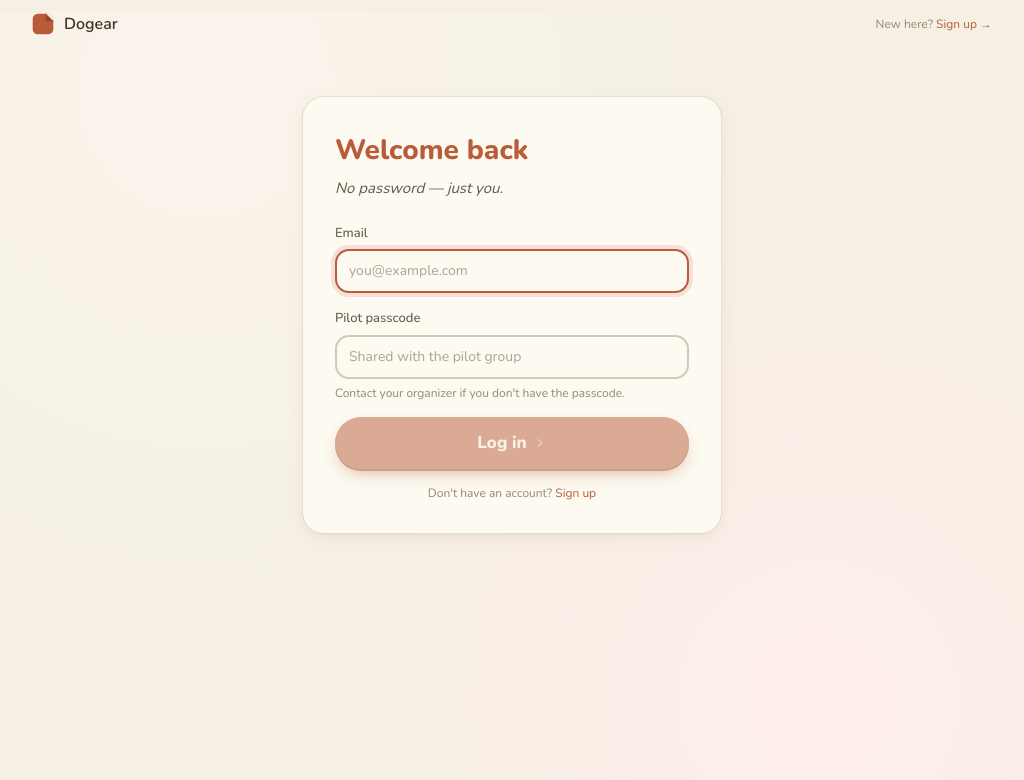
Test: LoginPage — email format hint › clears the hint once the email becomes valid
The width and height of the screenshot is (1024, 780).
In the field labelled "Email": (512, 271) [335, 249, 689, 293], type "x"
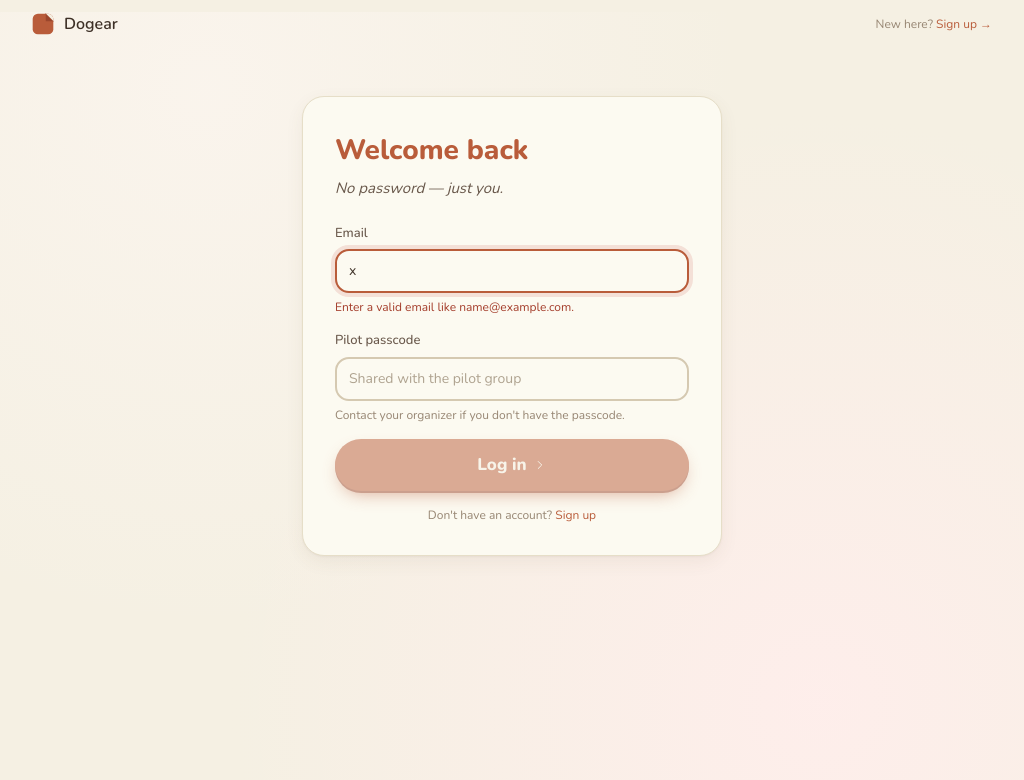
Check: the text "Enter a valid email like name@example.com." is shown, box [335, 299, 574, 315]
Replace the text in the field labelled "Email" with "name@example.com": (512, 271) [335, 249, 689, 293]
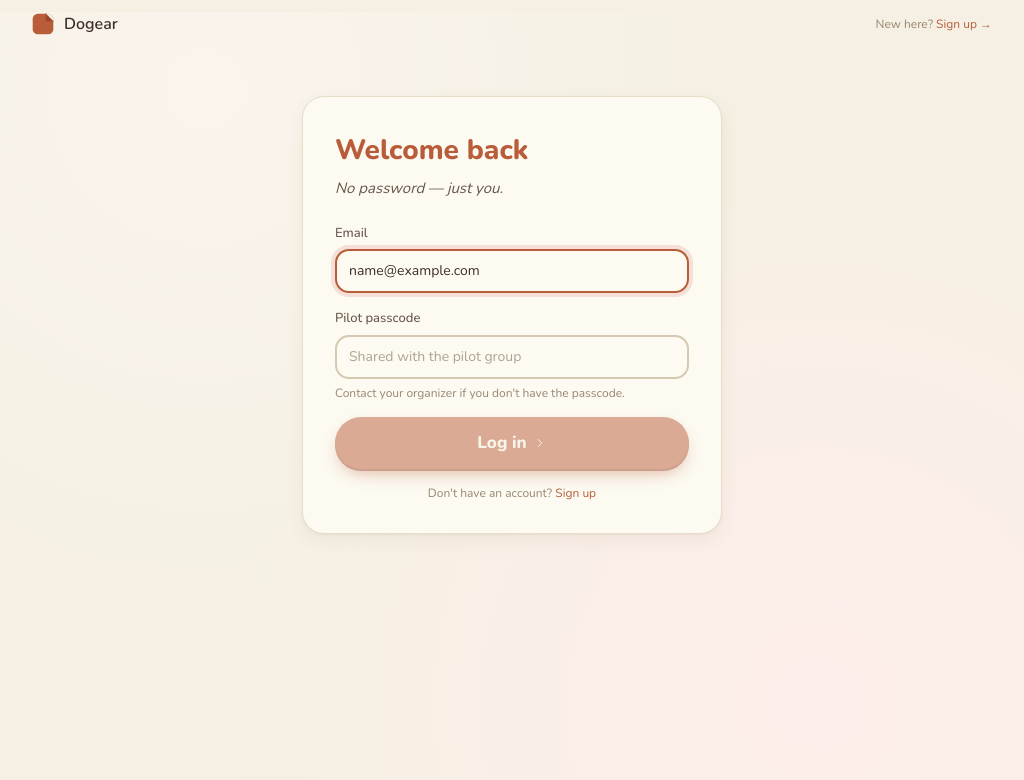
Check: the text with test id "email-format-error" is gone
